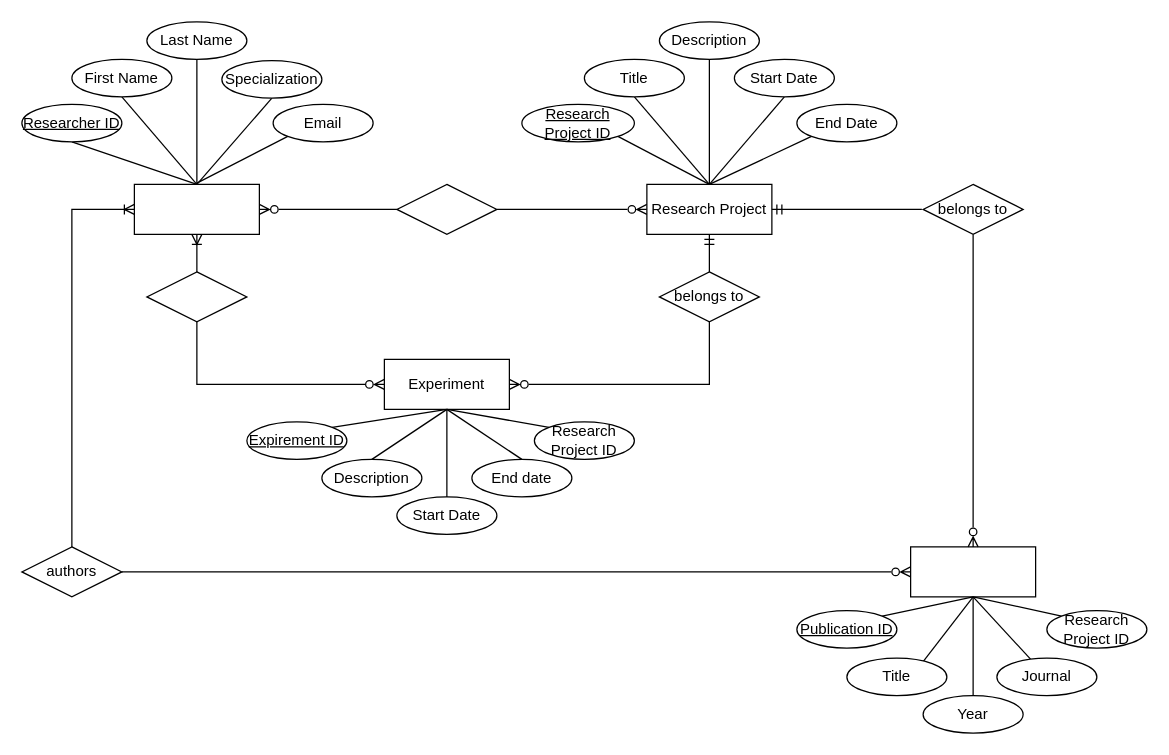
Some shapes in this 1169 by 755 pixel diagram are drawn without their labels. The centre of each missing label's shape, as x and y in pixels:
conducts: the point at 196,296
participates: the point at 446,208
Publication: the point at 972,571
Researcher: the point at 196,208
